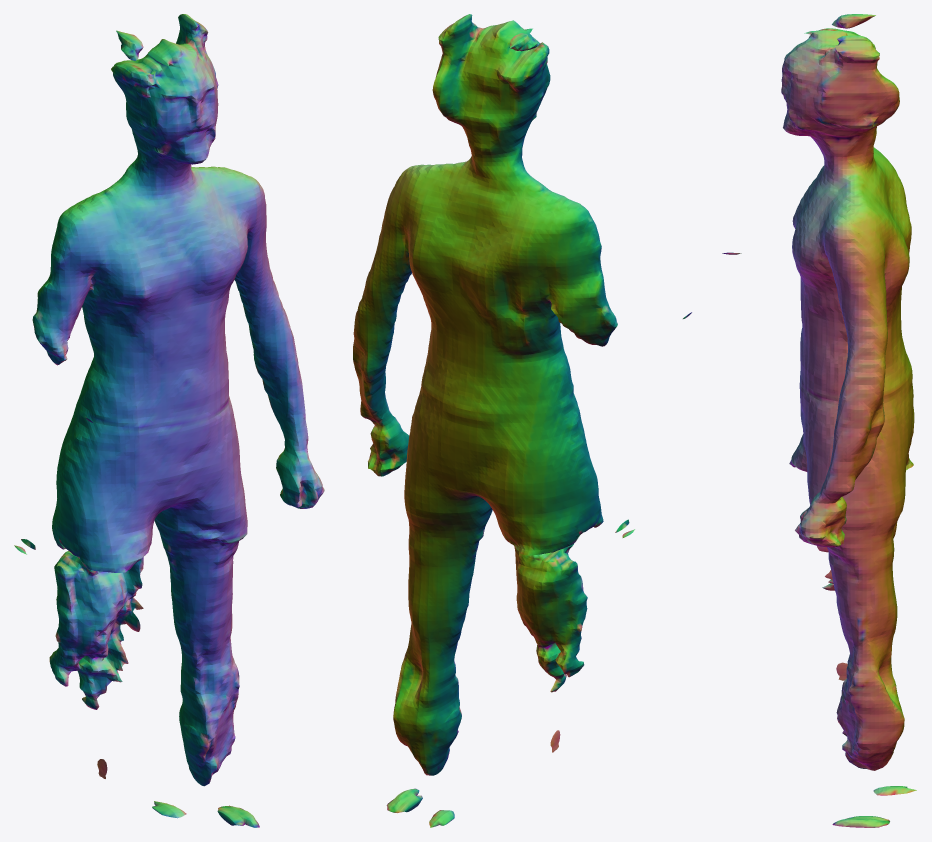
Rendered from result_dhia2_256.obj.
3 renders of one model, left to right at view 1: azimuth 30°, elevation 25°; view 2: azimuth 150°, elevation 25°; view 3: azimuth 270°, elevation 25°, orthographic. The views are drawn at different scales.
Size of the model in its own units: 0.5932 by 1.63 by 0.3788.
